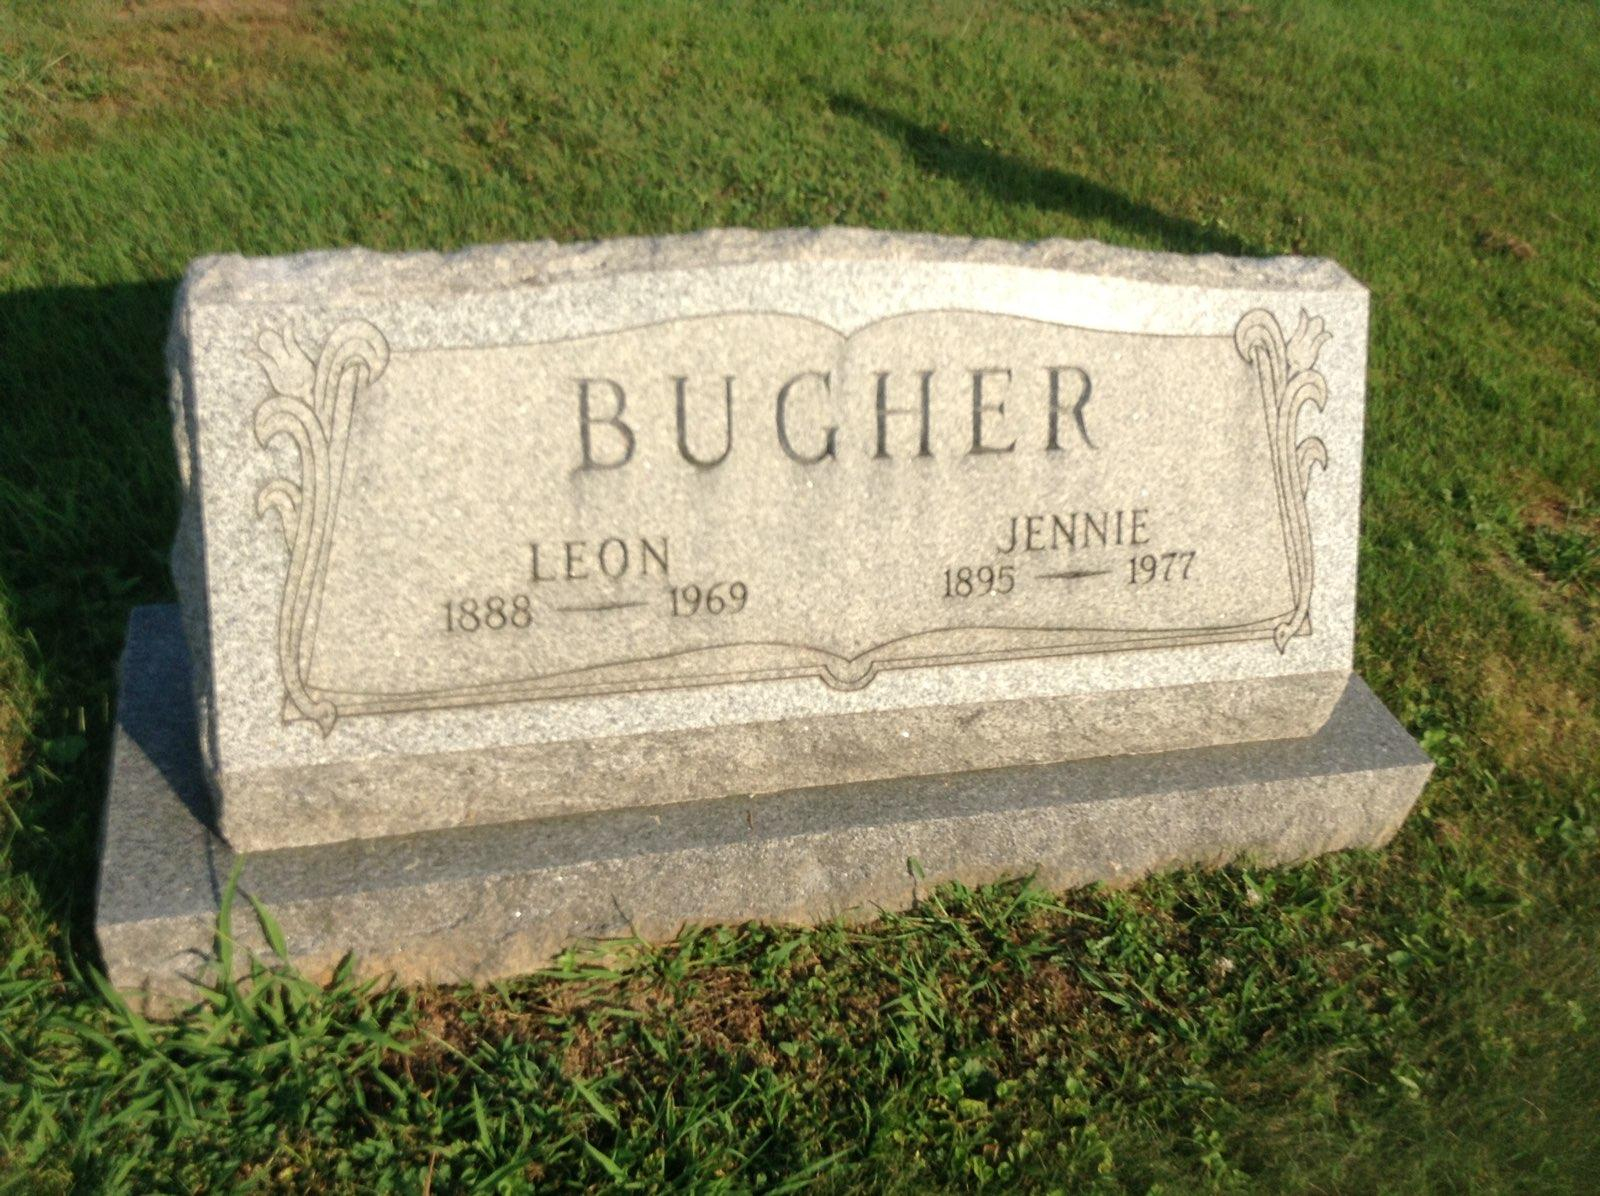slant: (75, 204, 1430, 1016)
